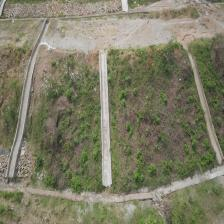rock_toe: (2, 0, 122, 16)
slope_drain: (6, 20, 48, 180), (188, 52, 224, 164), (99, 52, 112, 187)
